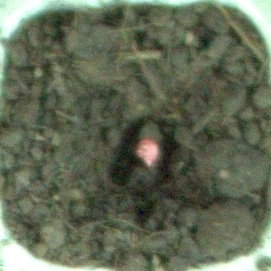chilli seed: (133, 138, 163, 168)
